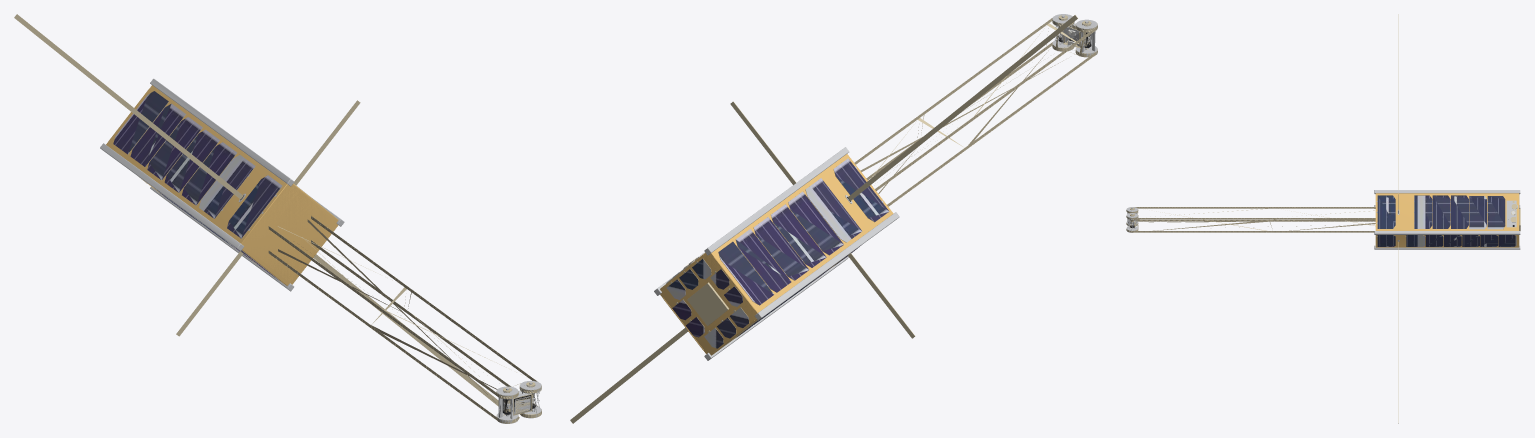
The model's file is firefly.glb.
The picture shows the model from 3 angles, left to right: view 1: azimuth 30°, elevation 25°; view 2: azimuth 150°, elevation 25°; view 3: azimuth 270°, elevation 25°; orthographic projection. The views are drawn at different scales.
Parts seen in each view (by area): view 1: imagetostl_mesh0; view 2: imagetostl_mesh0; view 3: imagetostl_mesh0.
Part boxes in pixels (x1,y1,x2,y2): imagetostl_mesh0: [14, 14, 541, 423]; imagetostl_mesh0: [570, 14, 1097, 423]; imagetostl_mesh0: [1126, 14, 1520, 423].
Size of the model in its own units: 0.4937 by 0.4937 by 0.6282.
8 materials, 1 textured.
